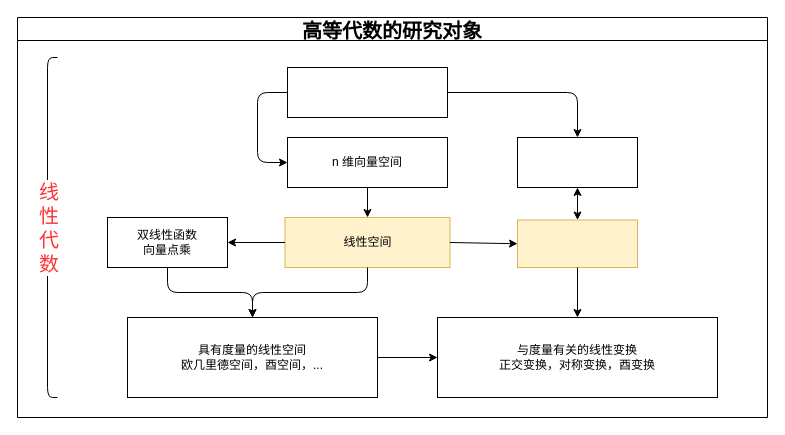
This 785x435 diagram has some shape labels left out. Here are the shapes that lost their labels. From the top down, the box of each, then its label:
(286, 66, 448, 118): n 元线性方程组
(516, 136, 638, 188): 矩阵
(516, 219, 638, 268): 线性映射
